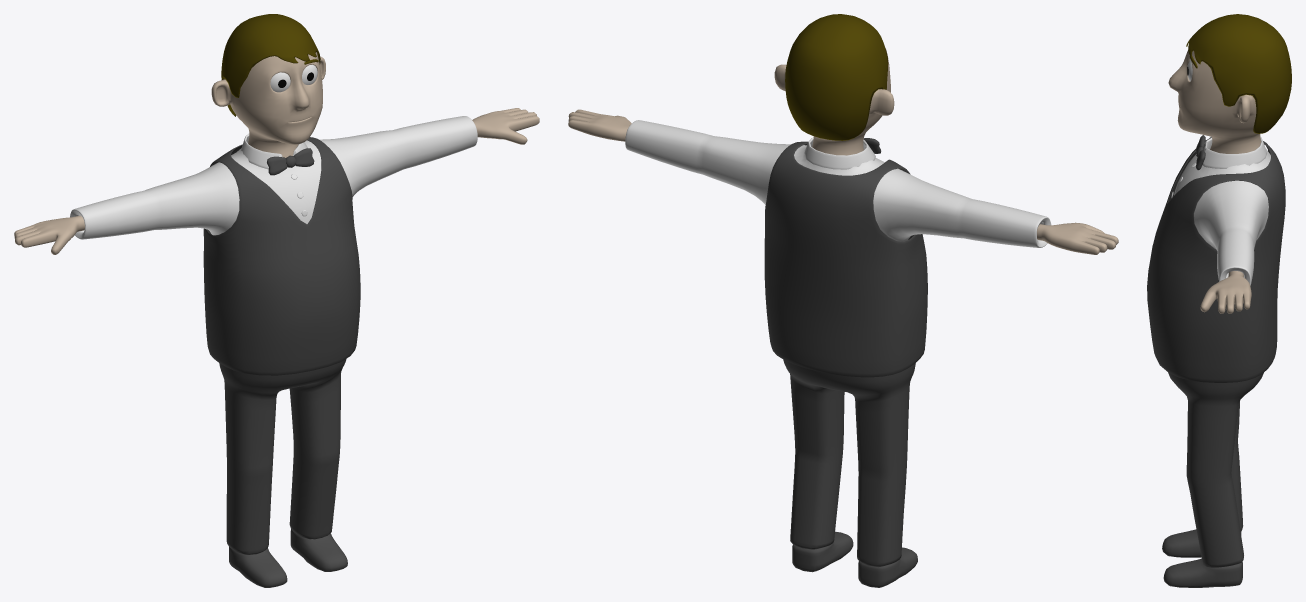
Rendered from waiter.fbx.
3 renders of one model, left to right at view 1: azimuth 30°, elevation 25°; view 2: azimuth 150°, elevation 25°; view 3: azimuth 270°, elevation 25°, orthographic. The views are drawn at different scales.
Visible parts, largest first — view 1: yelek, gomlek1, pantolon, kafa, sac1, ayaklar, sol_el, sag_el, papyon; view 2: yelek, pantolon, gomlek1, sac1, ayaklar, kafa, sag_el, sol_el; view 3: yelek, pantolon, sac1, gomlek1, kafa, ayaklar, sol_el, papyon.
Part boxes in pixels (bbox=[...]): yelek: bbox=[203, 137, 360, 375]; gomlek1: bbox=[70, 116, 477, 239]; pantolon: bbox=[219, 359, 346, 554]; kafa: bbox=[211, 52, 325, 157]; sac1: bbox=[221, 14, 320, 116]; ayaklar: bbox=[229, 529, 347, 587]; sol_el: bbox=[472, 108, 539, 144]; sag_el: bbox=[14, 215, 84, 254]; papyon: bbox=[267, 148, 314, 175]; yelek: bbox=[764, 141, 927, 377]; pantolon: bbox=[783, 359, 915, 567]; gomlek1: bbox=[625, 120, 1051, 247]; sac1: bbox=[785, 14, 888, 140]; ayaklar: bbox=[792, 531, 917, 587]; kafa: bbox=[774, 48, 894, 155]; sag_el: bbox=[1037, 222, 1118, 254]; sol_el: bbox=[568, 109, 631, 141]; yelek: bbox=[1147, 137, 1285, 382]; pantolon: bbox=[1168, 372, 1263, 567]; sac1: bbox=[1186, 14, 1291, 133]; gomlek1: bbox=[1171, 136, 1270, 286]; kafa: bbox=[1168, 50, 1260, 153]; ayaklar: bbox=[1162, 529, 1242, 587]; sol_el: bbox=[1200, 271, 1251, 313]; papyon: bbox=[1196, 135, 1205, 170].
Size of the model in its own units: 4.94 by 4.84 by 1.16.
